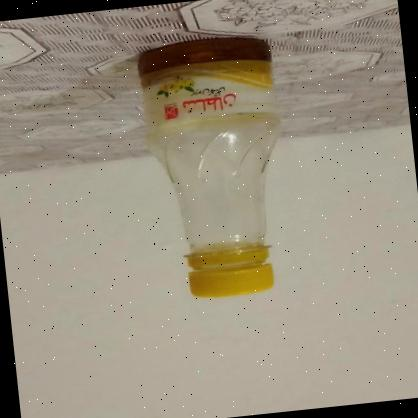bottle: (126, 24, 316, 312)
cap: (182, 238, 282, 301)
label: (142, 33, 283, 134)
